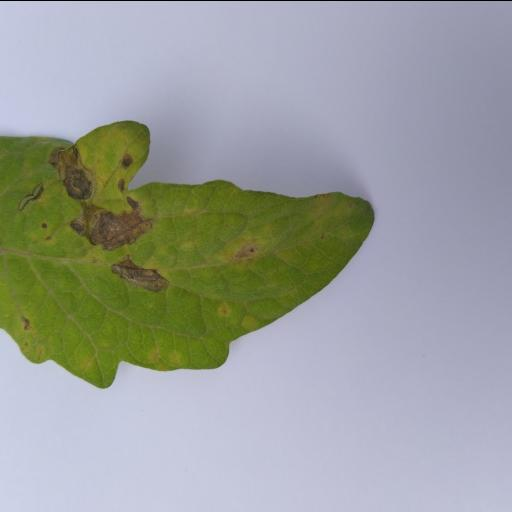Early Blight: (0, 120, 372, 389)
